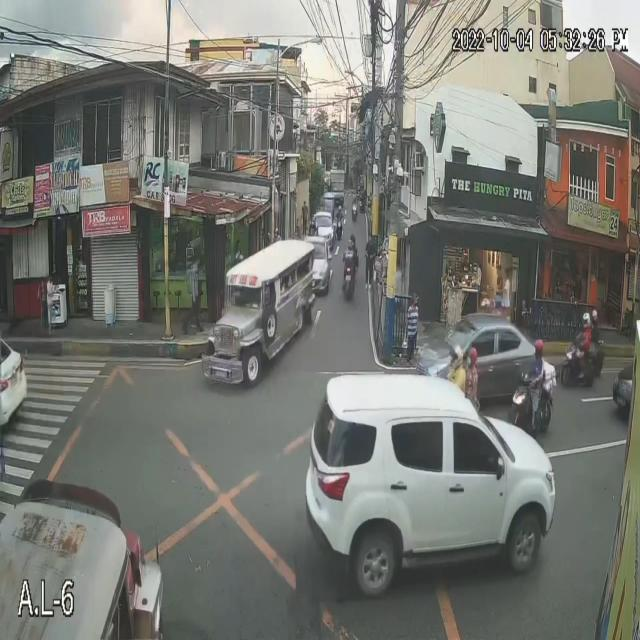Full-Faced: (450, 343, 464, 373), (464, 346, 480, 372), (335, 195, 346, 218), (345, 229, 356, 252), (578, 309, 590, 328), (592, 306, 600, 324)
Half-Faced: (530, 337, 546, 363)
